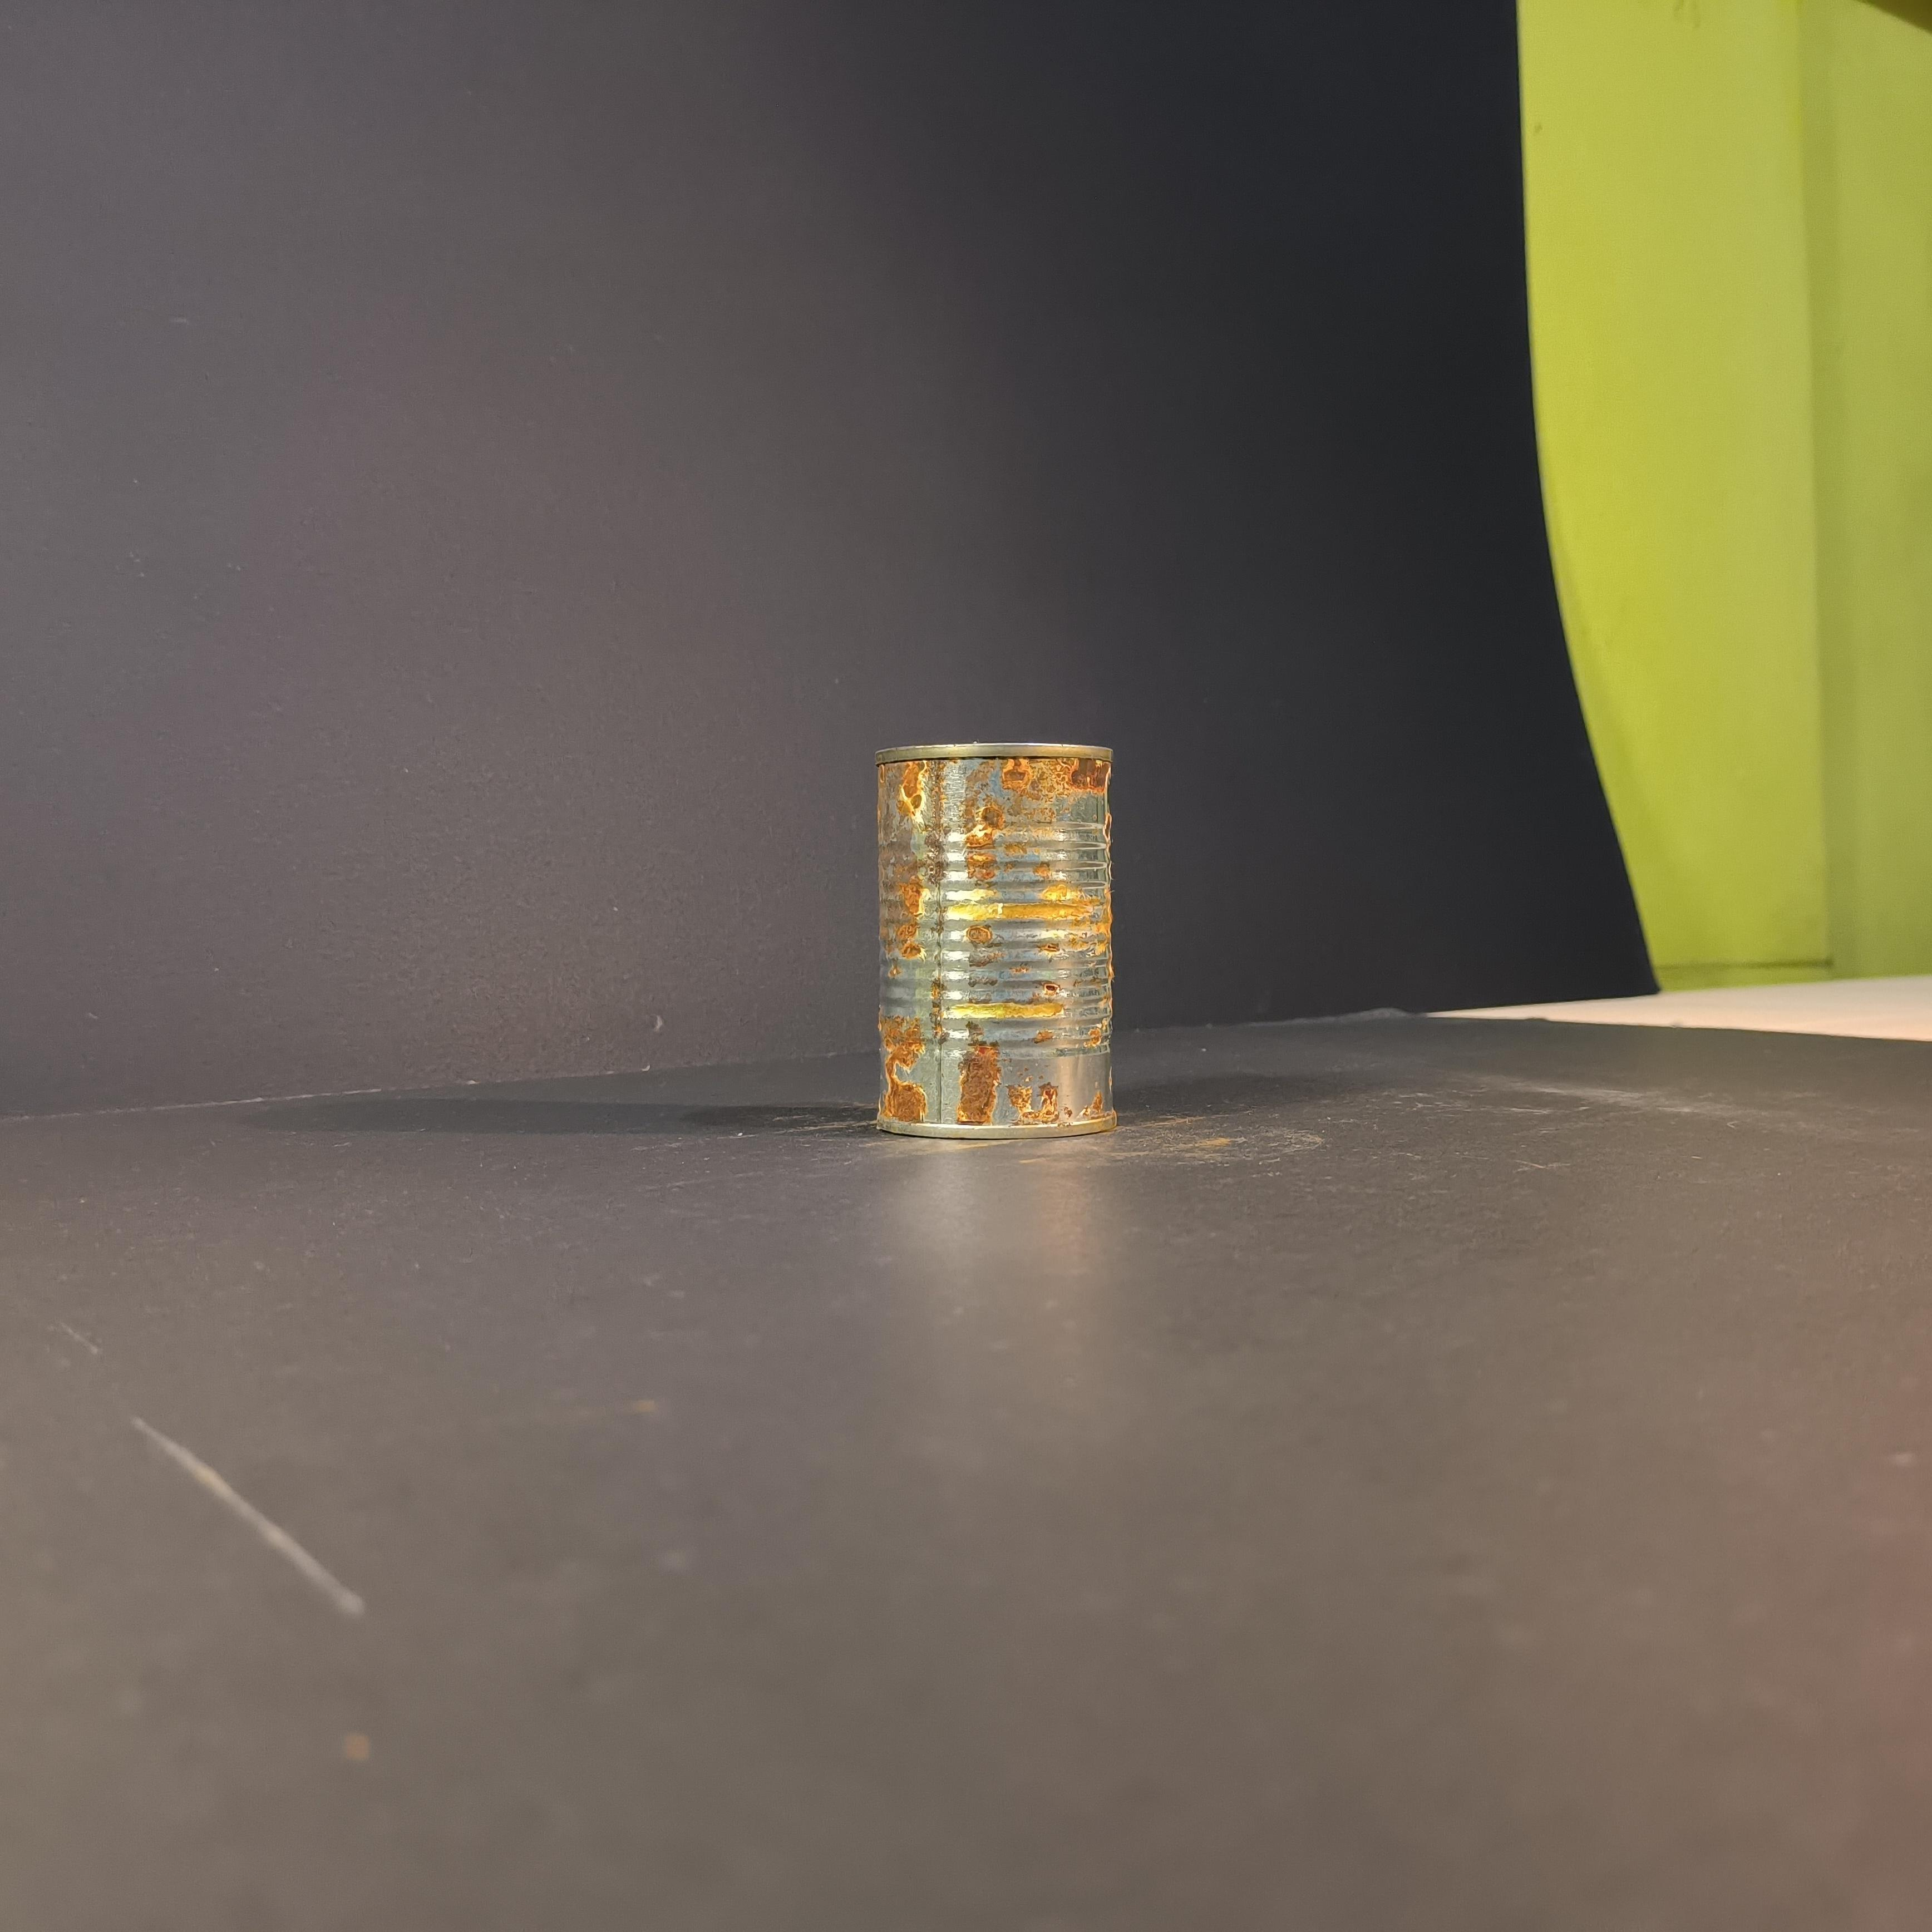Rusted: (855, 732, 1132, 1143)
